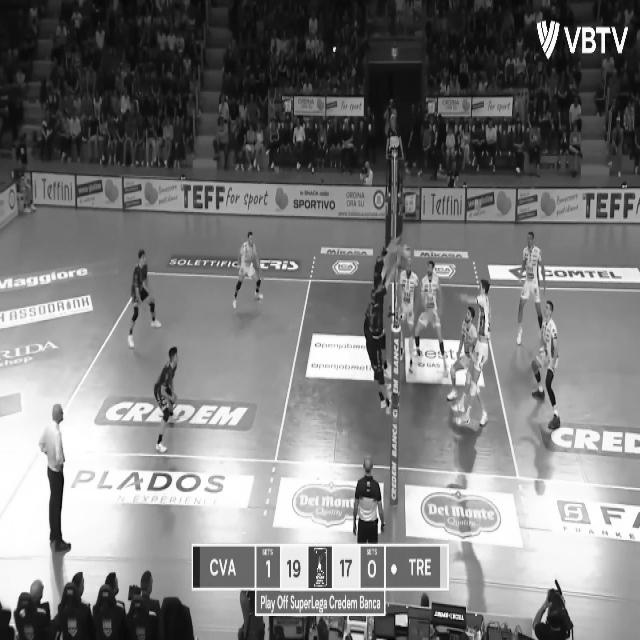volleyball court: (58, 270, 639, 487)
